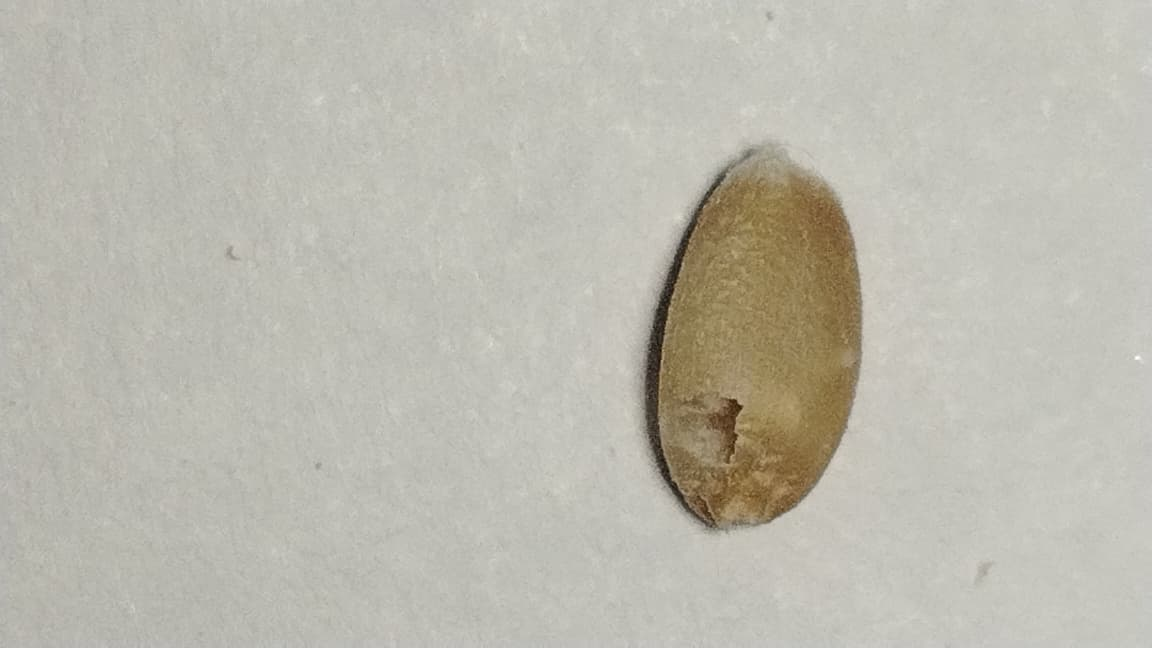damage: (658, 147, 861, 528)
insectdamage: (658, 375, 766, 497)
